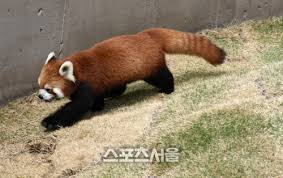redPanda: (30, 24, 231, 133)
